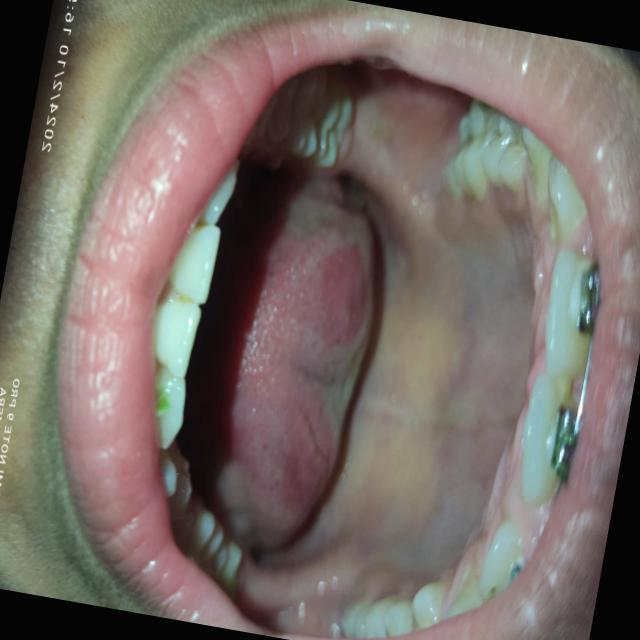No Cancer: (195, 116, 518, 562)
